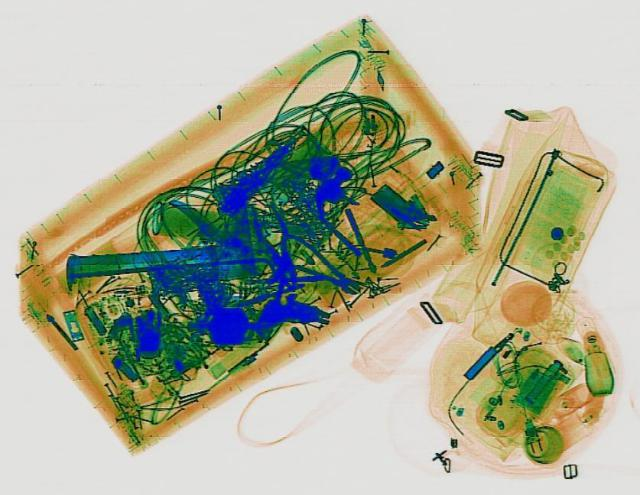Pliers: (262, 228, 374, 299), (242, 199, 302, 280)
